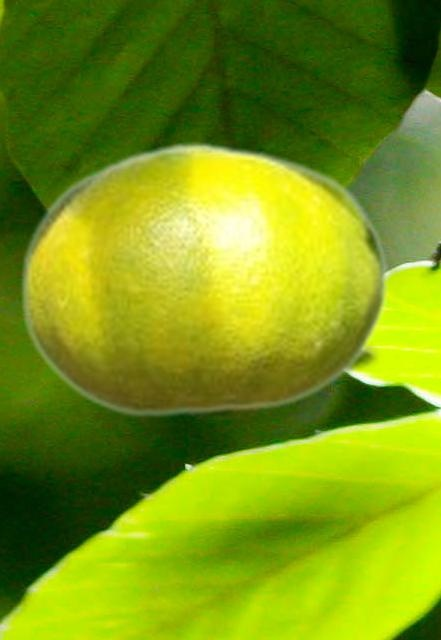dalandan: (19, 141, 387, 418), (189, 341, 381, 418)
